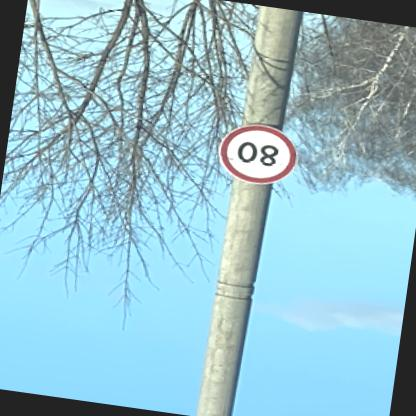speedlimit: (215, 120, 302, 190)
